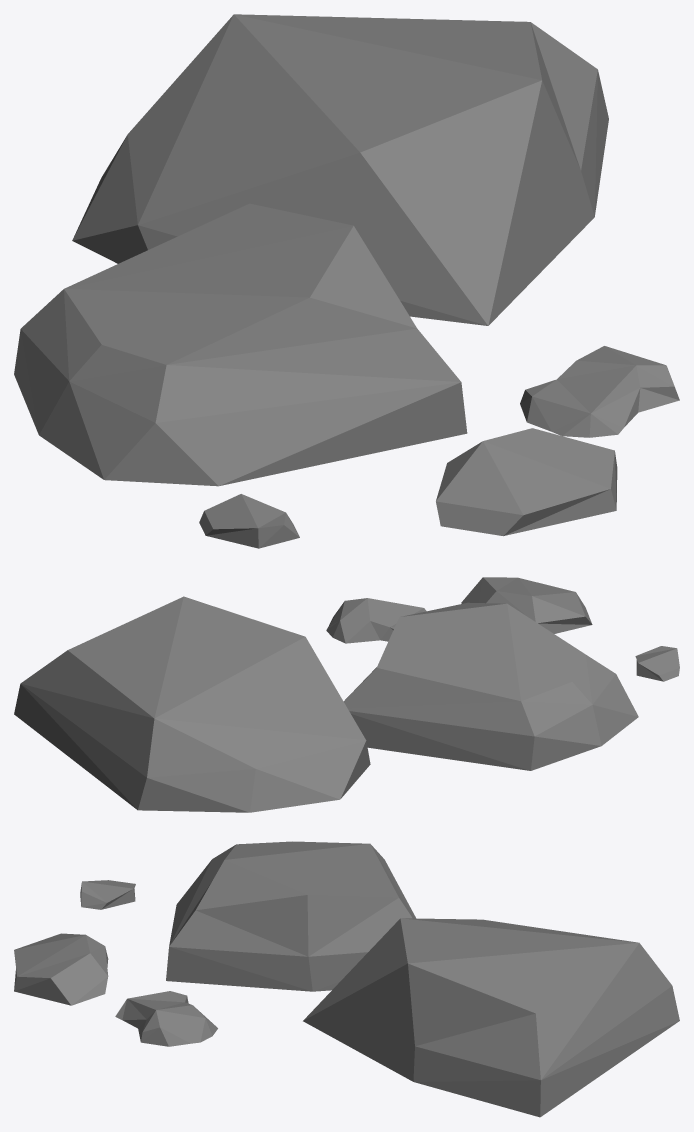
The model's file is stone_1.obj.
The picture shows the model from 3 angles, top to bottom: view 1: azimuth 30°, elevation 25°; view 2: azimuth 150°, elevation 25°; view 3: azimuth 270°, elevation 25°; orthographic projection. The views are drawn at different scales.
Parts seen in each view (by area): view 1: stones_1; view 2: stones_1; view 3: stones_1.
Boxes of the visible parts, <box> form: stones_1: <box>14,14,679,548</box>; stones_1: <box>14,577,679,812</box>; stones_1: <box>14,841,679,1117</box>.
Bounding box in the file's own units: 1.67 × 0.3268 × 1.96.
